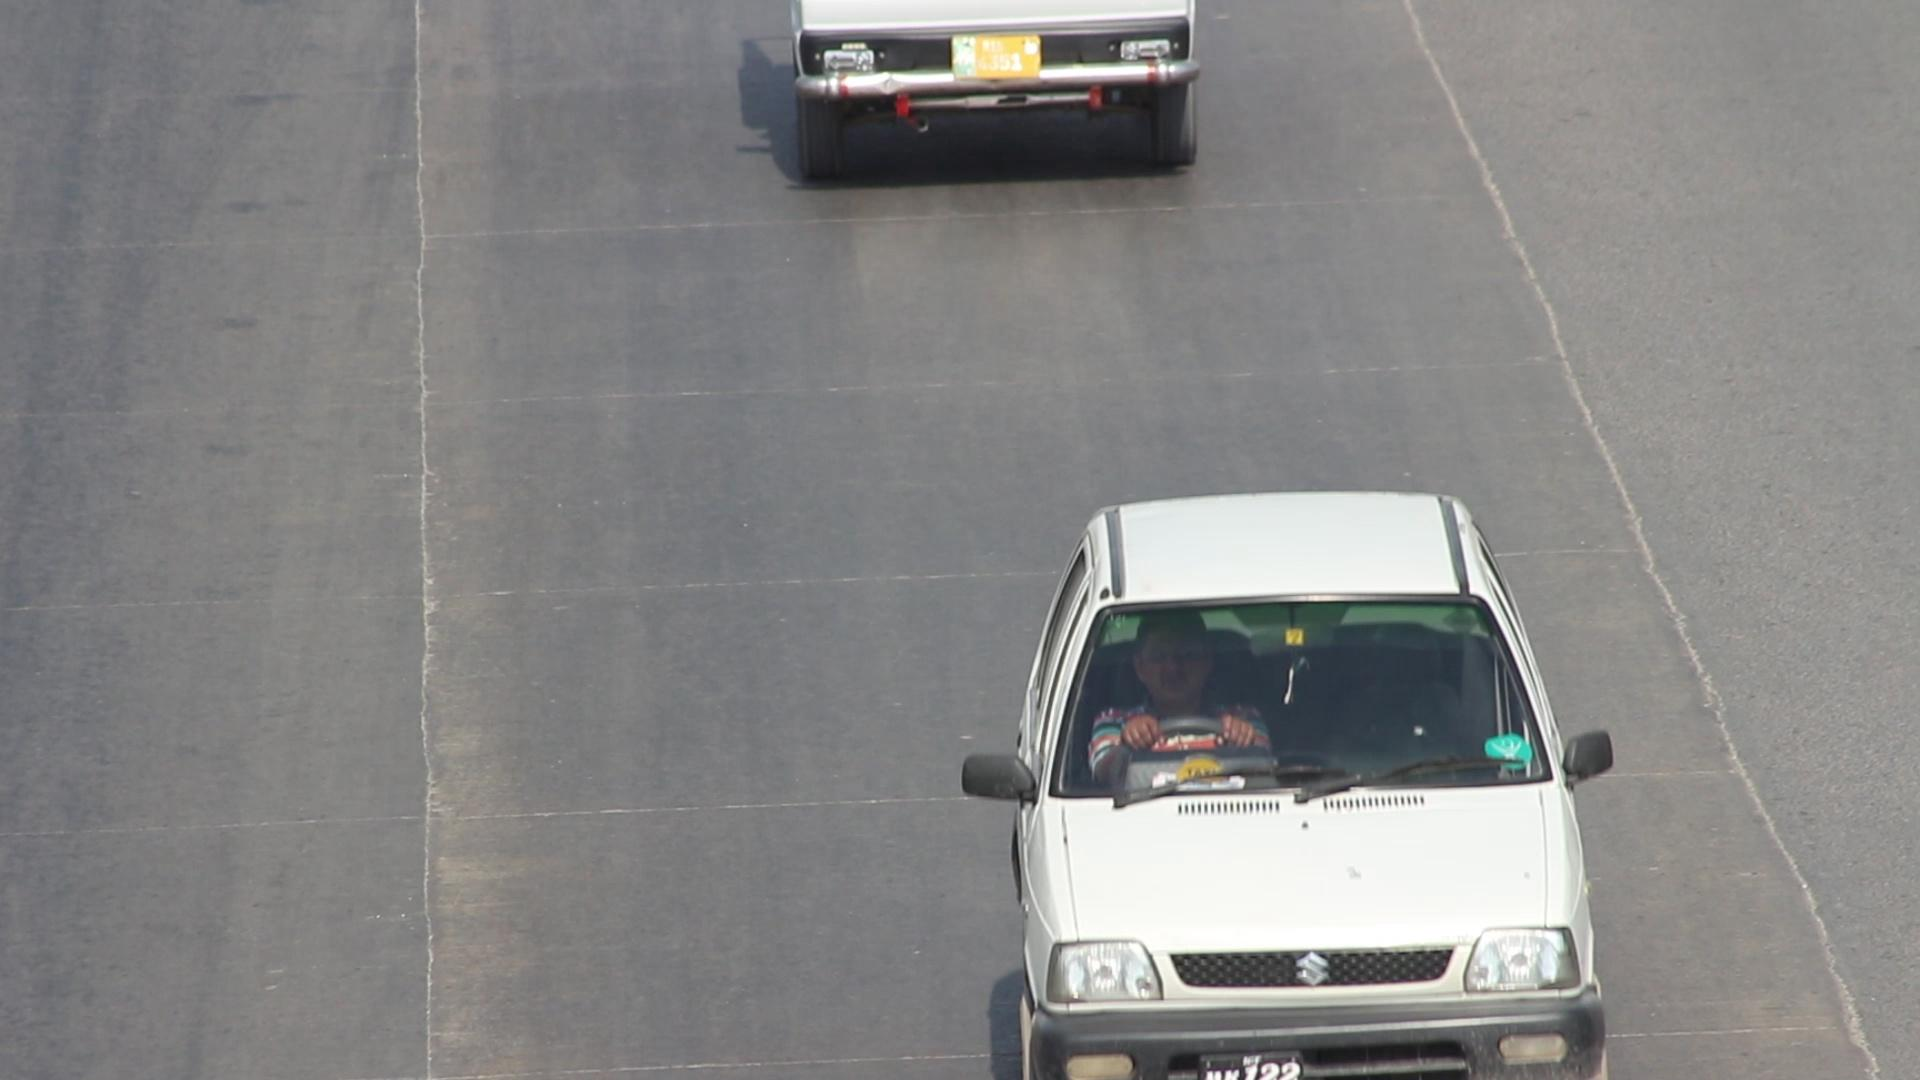windshield: (1038, 570, 1571, 823)
